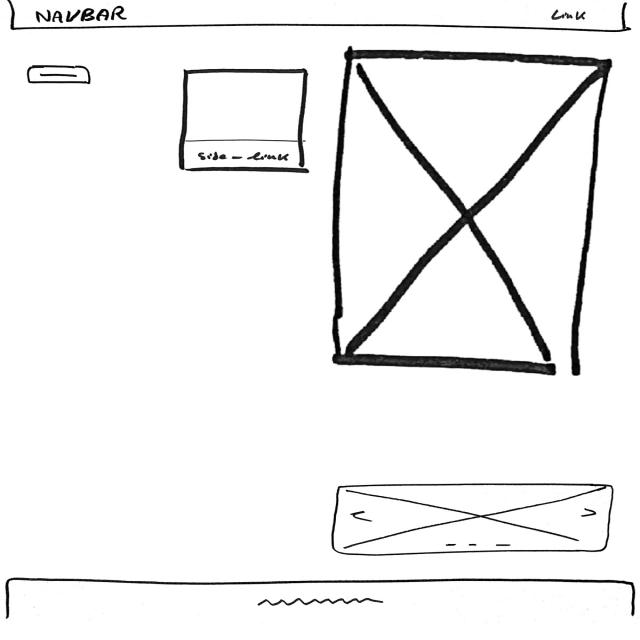container: (6, 1, 632, 32), (178, 68, 308, 173)
icon-button: (24, 64, 93, 86)
image: (334, 49, 608, 377), (328, 484, 615, 557)
label: (30, 6, 129, 24), (197, 152, 293, 163), (549, 10, 592, 23)
text: (254, 598, 385, 610)
